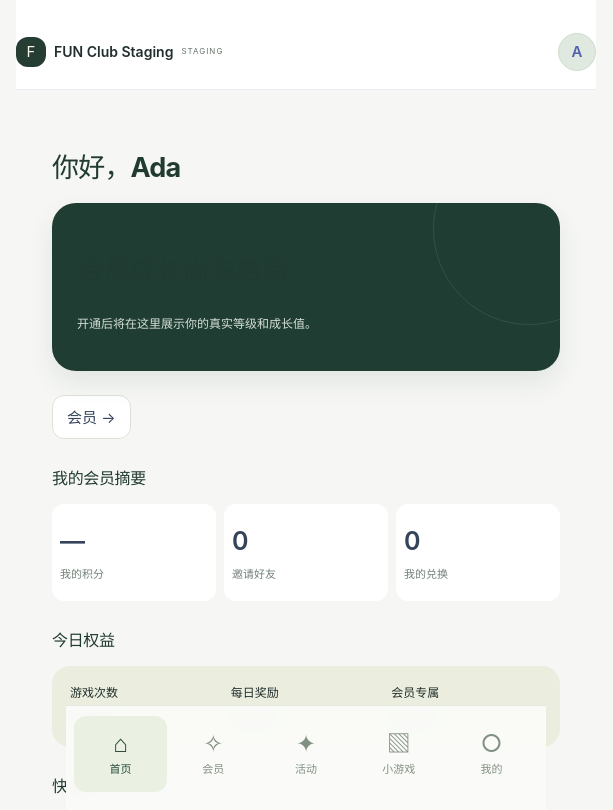
Scenario: Mini product presentation › activity templates remain disabled with no invented amount, rules or progress
Expected: the heading "你好，Ada" is shown, [52, 151, 180, 184]
Click the button "✦ 活动": (306, 754) [260, 716, 352, 792]
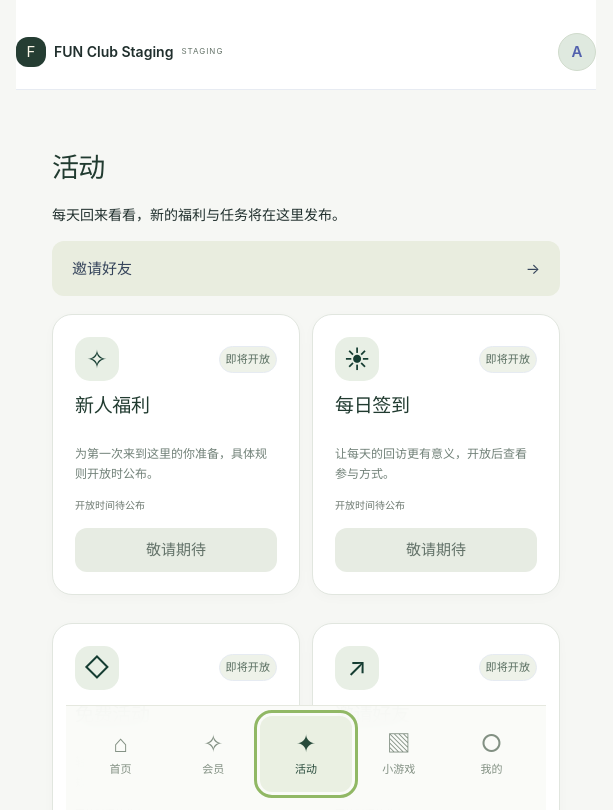
Now the number of buttons "敬请期待" is 4
